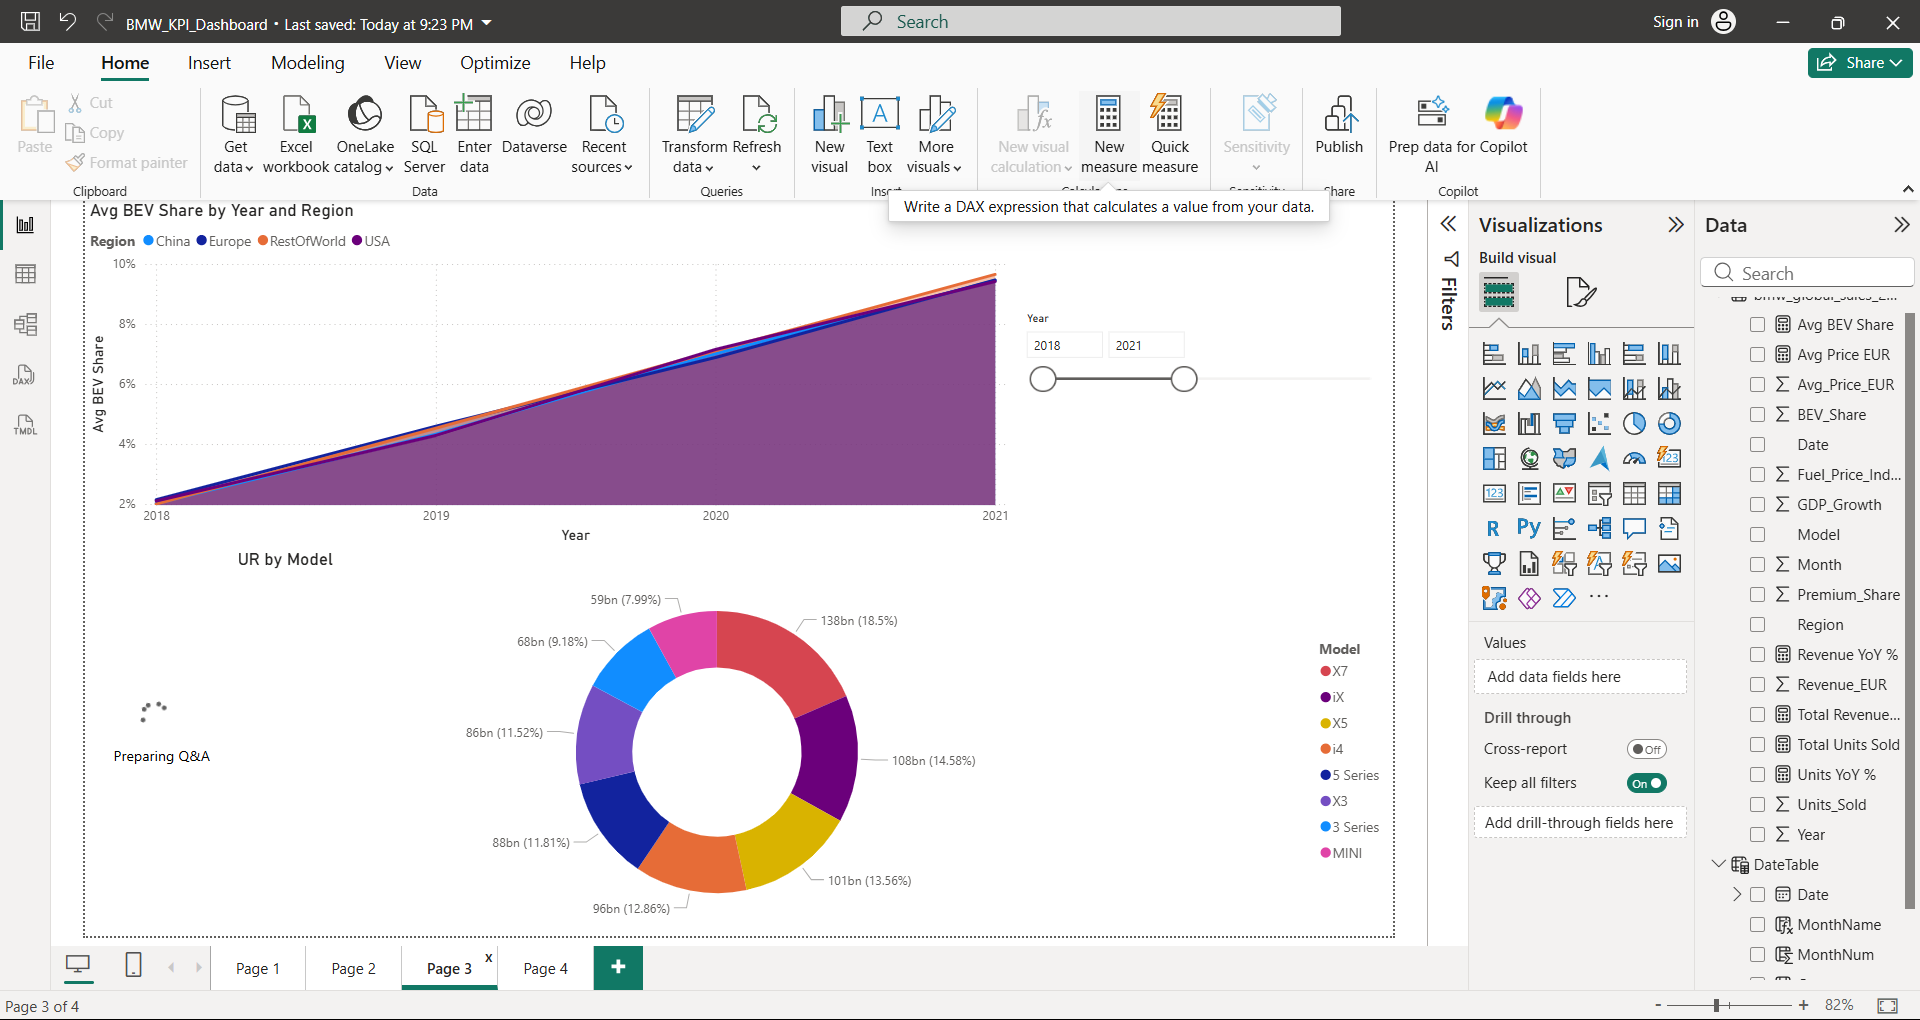

The dashboard page shown, as its layout file describes it:
{"tool":"powerbi","page":{"name":"Page 3","canvas":[1280,720],"ordinal":2},"visuals":[{"type":"areaChart","fields":{"Y":["bmw_global_sales_2018_2025.Avg BEV Share"],"Series":["bmw_global_sales_2018_2025.Region"],"Category":["DateTable.Year"]},"box":[0,0,908.6,341.2],"z":0},{"type":"donutChart","fields":{"Category":["bmw_global_sales_2018_2025.Model"],"Y":["bmw_global_sales_2018_2025.Total Revenue EUR"]},"box":[24.5,341.2,1255.8,379.1],"z":1},{"type":"slicer","fields":{"Values":["DateTable.Year"]},"box":[908.6,103.9,371.7,138.2],"z":2},{"type":"qnaVisual","box":[0,341.2,150,378.8],"z":3}]}

Visuals, with their boxes on the page's 1280x720 design canvas (x1, y1, x2, y2). These are canvas units, not pixel positions in the 1920x1020 screenshot, which may show the page scaled, cropped or inside an application window:
areaChart - bmw_global_sales_2018_2025.Avg BEV Share x bmw_global_sales_2018_2025.Region: (0,0,909,341)
donutChart - bmw_global_sales_2018_2025.Model x bmw_global_sales_2018_2025.Total Revenue EUR: (24,341,1280,720)
slicer - DateTable.Year: (909,104,1280,242)
qnaVisual: (0,341,150,720)
